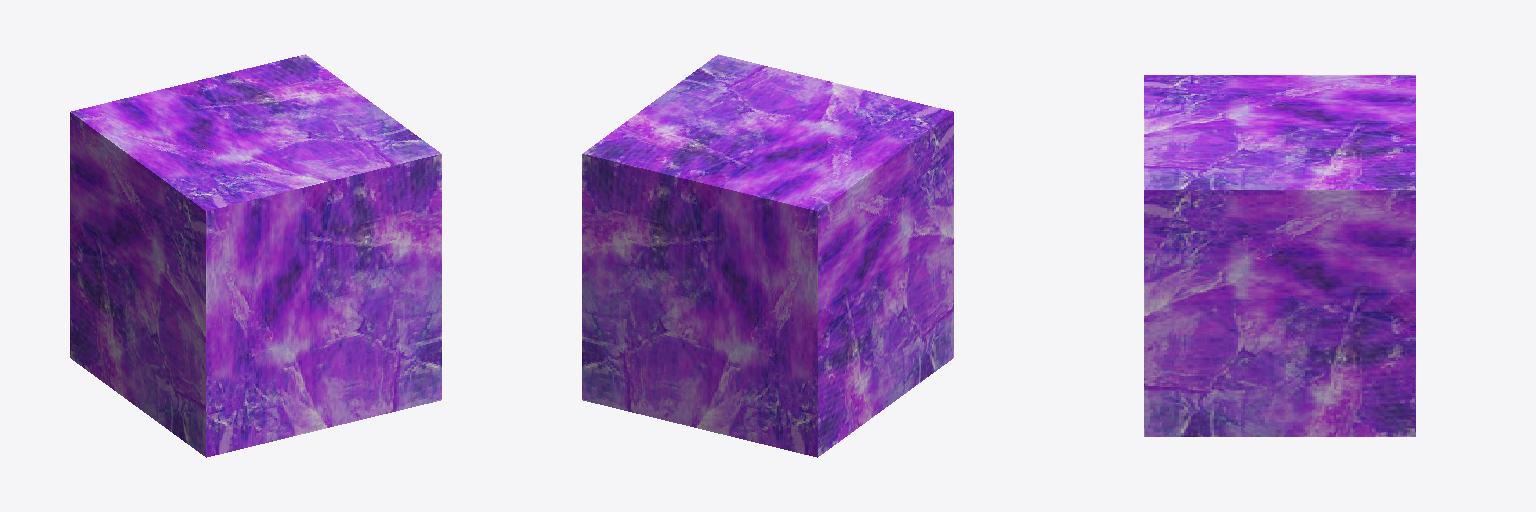
The picture shows the model from 3 angles: view 1: azimuth 30°, elevation 25°; view 2: azimuth 150°, elevation 25°; view 3: azimuth 270°, elevation 25°; orthographic projection.
Parts seen in each view (by area): view 1: Amethyst; view 2: Amethyst; view 3: Amethyst.
Boxes of the visible parts, x1=… form: Amethyst: x1=70, y1=54, x2=441, y2=457; Amethyst: x1=582, y1=54, x2=953, y2=457; Amethyst: x1=1144, y1=75, x2=1415, y2=436.
Size of the model in its own units: 2 by 2 by 2.
1 materials, 1 textured.